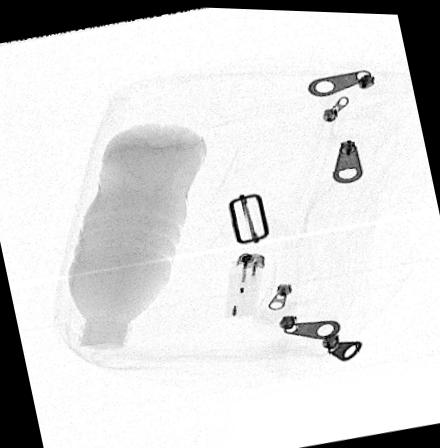Lighter: (224, 249, 265, 315)
